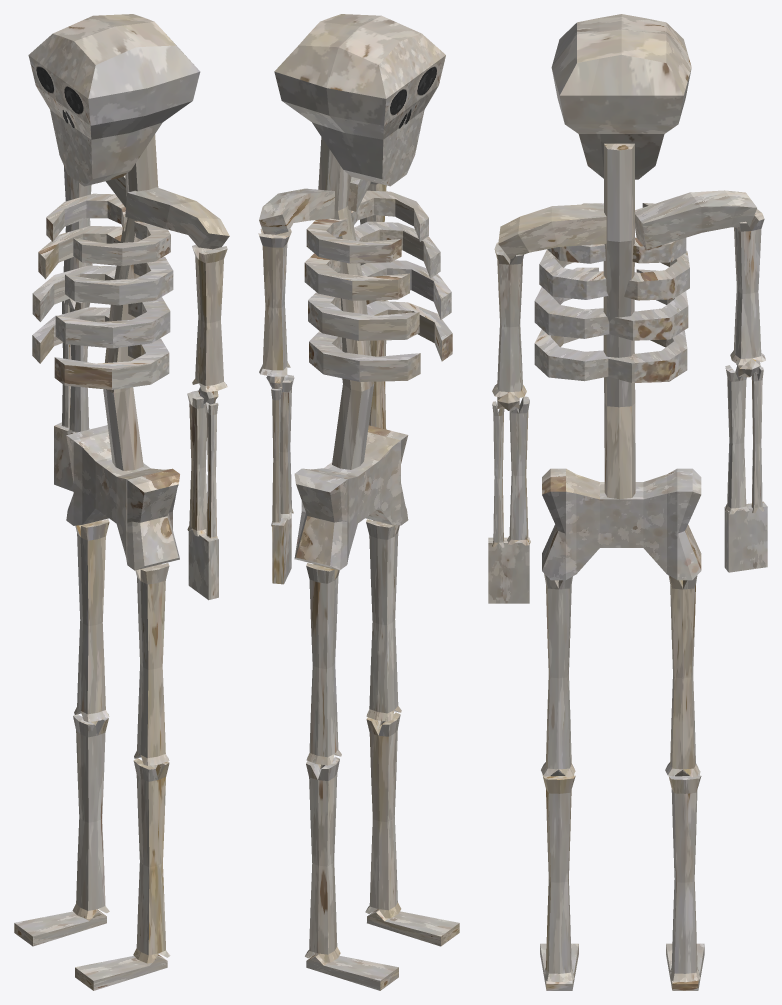
Rendered from skeleton_decapite.fbx.
3 renders of one model, left to right at view 1: azimuth 30°, elevation 25°; view 2: azimuth 150°, elevation 25°; view 3: azimuth 270°, elevation 25°, orthographic. The views are drawn at different scales.
Visible parts, largest first — view 1: skull, pelvic, pied_gauche, pied_droit, main_gauche, jambe_droite, jambe_gauche, spine, bras_gauche, 6, epaule_gauche, 8 (+8 smaller); view 2: skull, pelvic, pied_droit, pied_gauche, spine, jambe_gauche, jambe_droite, main_droite, bras_droit, 7, 5, 3 (+8 smaller); view 3: skull, pelvic, spine, main_droite, main_gauche, pied_droit, pied_gauche, jambe_droite, jambe_gauche, epaule_fdroite, epaule_gauche, bras_droit (+9 smaller).
Part boxes in pixels (x1=…): skull: x1=28, y1=14, x2=200, y2=186; pelvic: x1=66, y1=425, x2=179, y2=570; pied_gauche: x1=75, y1=758, x2=170, y2=990; pied_droit: x1=14, y1=714, x2=109, y2=946; main_gauche: x1=187, y1=387, x2=218, y2=600; jambe_droite: x1=74, y1=519, x2=109, y2=722; jambe_gauche: x1=134, y1=563, x2=169, y2=765; spine: x1=103, y1=134, x2=158, y2=470; bras_gauche: x1=192, y1=244, x2=227, y2=392; 6: x1=55, y1=297, x2=170, y2=348; epaule_gauche: x1=125, y1=187, x2=229, y2=249; 8: x1=54, y1=338, x2=169, y2=389; skull: x1=274, y1=14, x2=445, y2=186; pelvic: x1=294, y1=425, x2=408, y2=570; pied_droit: x1=305, y1=756, x2=398, y2=990; pied_gauche: x1=365, y1=712, x2=459, y2=946; spine: x1=318, y1=137, x2=374, y2=469; jambe_gauche: x1=366, y1=519, x2=401, y2=721; jambe_droite: x1=306, y1=563, x2=341, y2=765; main_droite: x1=266, y1=374, x2=294, y2=584; bras_droit: x1=258, y1=228, x2=291, y2=376; 7: x1=309, y1=331, x2=420, y2=381; 5: x1=308, y1=292, x2=419, y2=340; 3: x1=304, y1=253, x2=409, y2=300; skull: x1=551, y1=14, x2=691, y2=179; pelvic: x1=542, y1=468, x2=701, y2=580; spine: x1=603, y1=143, x2=635, y2=499; main_droite: x1=724, y1=358, x2=767, y2=572; main_gauche: x1=488, y1=392, x2=530, y2=603; pied_droit: x1=666, y1=769, x2=704, y2=990; pied_gauche: x1=540, y1=769, x2=578, y2=990; jambe_droite: x1=665, y1=575, x2=699, y2=777; jambe_gauche: x1=541, y1=573, x2=575, y2=777; epaule_fdroite: x1=635, y1=190, x2=756, y2=249; epaule_gauche: x1=498, y1=203, x2=606, y2=259; bras_droit: x1=730, y1=209, x2=765, y2=365.
Bounding box in the file's own units: 356 × 2460 × 651.
Materials: 2 (2 with a texture image).
